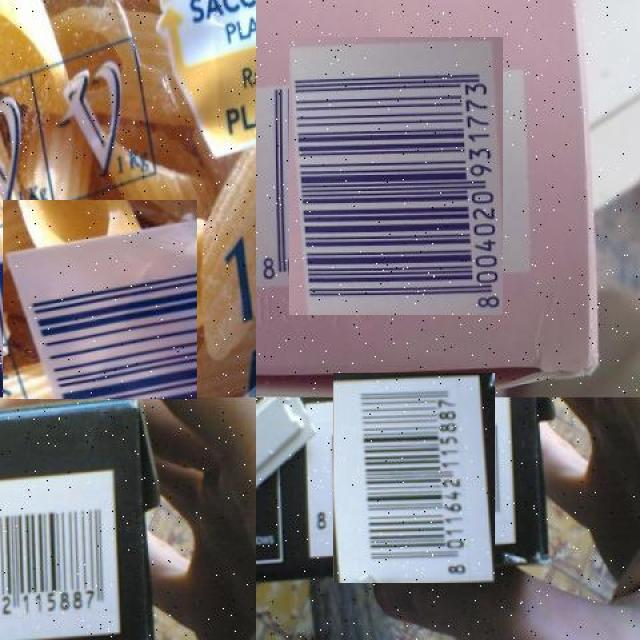Barcode: (272, 53, 519, 299), (2, 201, 198, 399), (320, 385, 507, 571), (0, 471, 124, 640)
